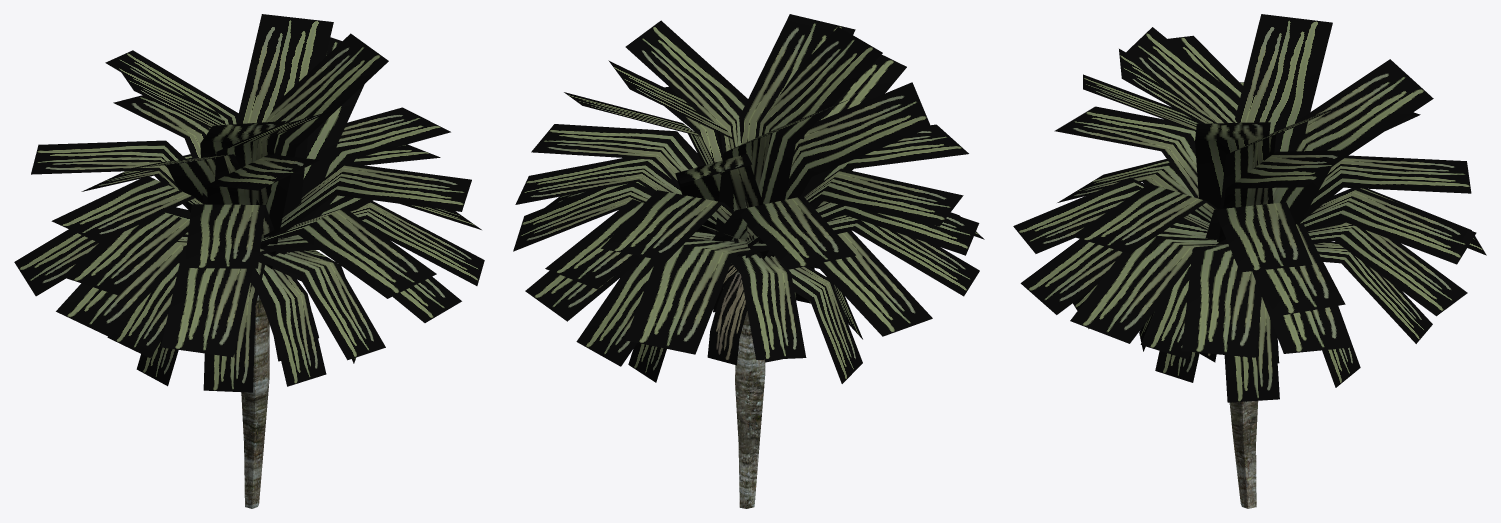
The model's file is xan_LOD1.fbx.
The picture shows the model from 3 angles, left to right: view 1: azimuth 30°, elevation 25°; view 2: azimuth 150°, elevation 25°; view 3: azimuth 270°, elevation 25°; orthographic projection.
Visible parts, largest first — view 1: Mesh Object; view 2: Mesh Object; view 3: Mesh Object.
Part boxes in pixels (x1=…): Mesh Object: x1=14, y1=14, x2=484, y2=508; Mesh Object: x1=513, y1=14, x2=984, y2=508; Mesh Object: x1=1013, y1=14, x2=1486, y2=508.
Bounding box in the file's own units: 14.01 × 14.28 × 14.03.
